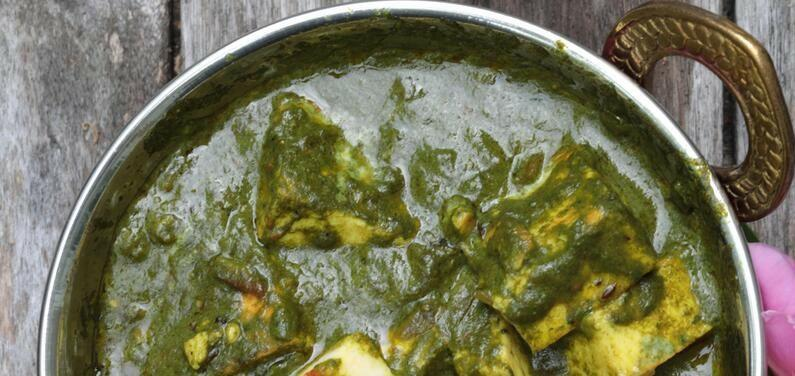PalakPaneer: (84, 31, 752, 376)
